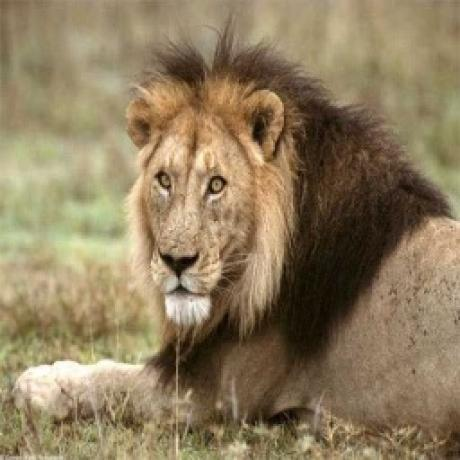Lion: (9, 23, 460, 446)
